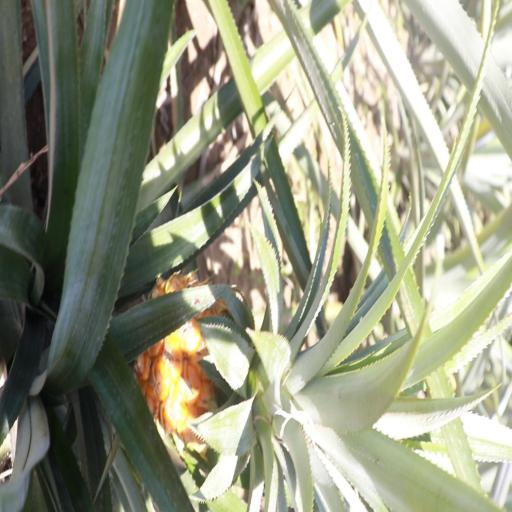Pineapple - v8 v1: (130, 273, 415, 473)
